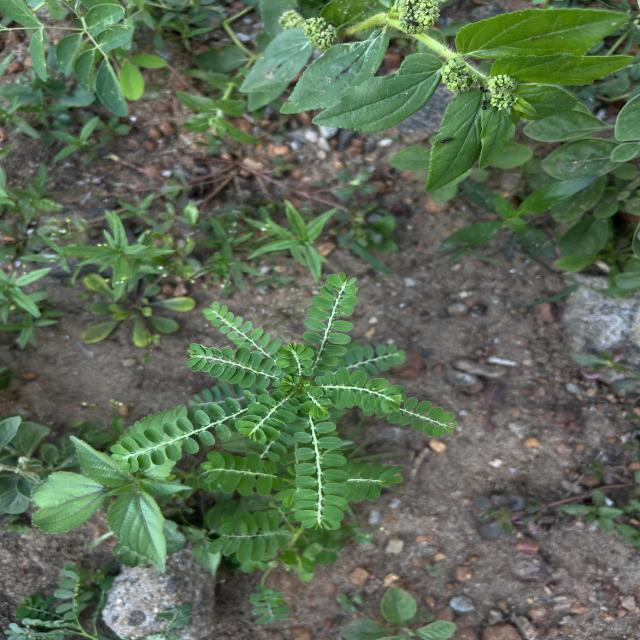Phyllanthus niruri: (108, 396, 244, 476), (290, 414, 350, 532), (301, 269, 362, 369), (184, 341, 286, 392), (315, 364, 407, 417), (202, 301, 284, 358), (236, 392, 300, 444)
